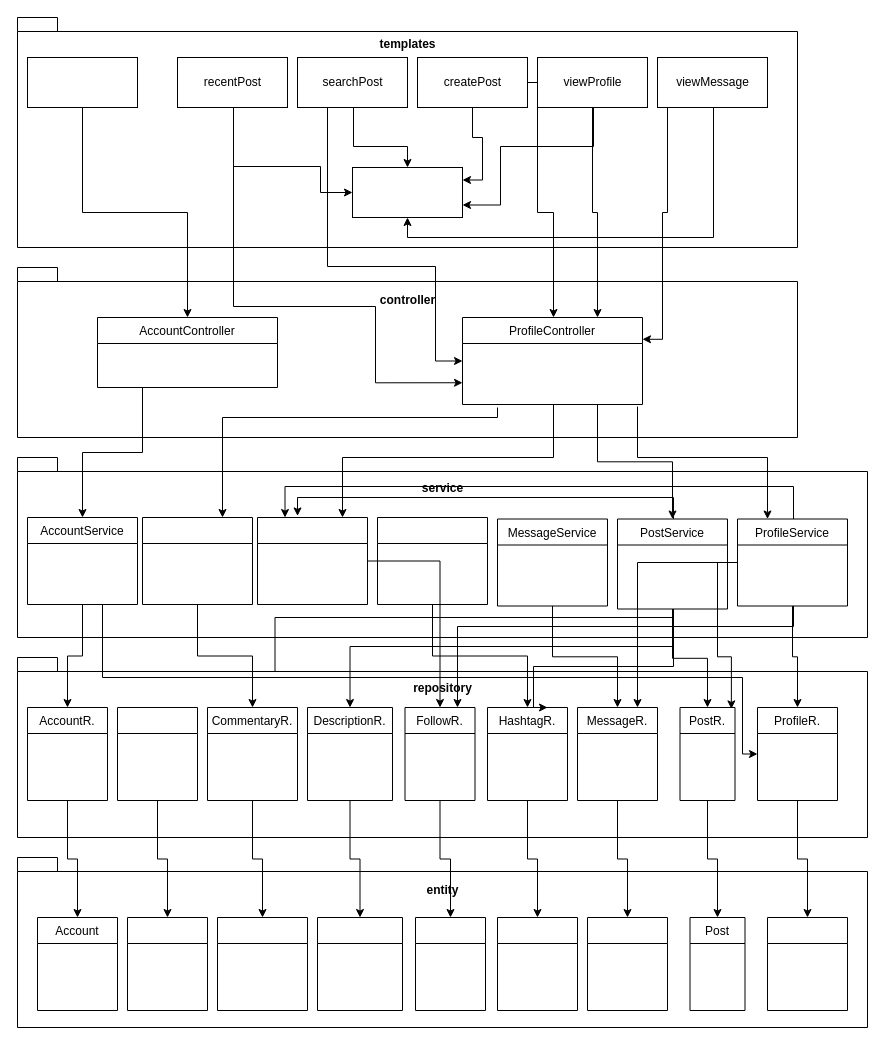
The diagram is 885 pixels wide and 1045 high, and some of its shapes have lost their labels. Here are the shapes that lost their labels. From the top down, the centre of each, then its label:
At point 82,82: "startPage".
At point 407,192: "profileMenu".
At point 197,560: "CommentService".
At point 312,560: "FollowService".
At point 432,560: "HashtagService".
At point 157,753: "ActivityR.".
At point 167,963: "Activity".
At point 262,963: "Commentary".
At point 359,963: "Description".
At point 450,963: "Follow".
At point 537,963: "Hashtag".
At point 627,963: "Message".
At point 807,963: "Profile".
